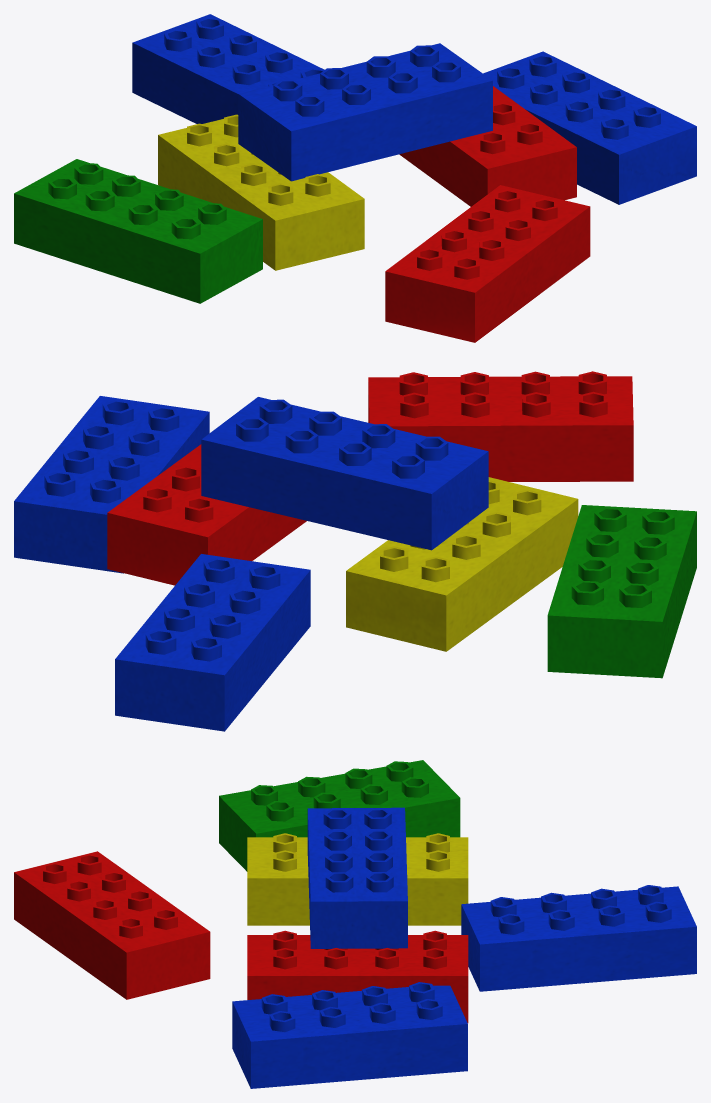
Rendered from duplopile_1.fbx.
3 renders of one model, top to bottom at view 1: azimuth 30°, elevation 25°; view 2: azimuth 150°, elevation 25°; view 3: azimuth 270°, elevation 25°, orthographic. The views are drawn at different scales.
Parts seen in each view (by area): view 1: polySurface61; view 2: polySurface61; view 3: polySurface61.
Part boxes in pixels (x1,y1,x2,y2): polySurface61: (14, 14, 696, 342); polySurface61: (14, 371, 696, 731); polySurface61: (14, 760, 696, 1088).
Bounding box in the file's own units: 25.49 × 5.16 × 27.04.
